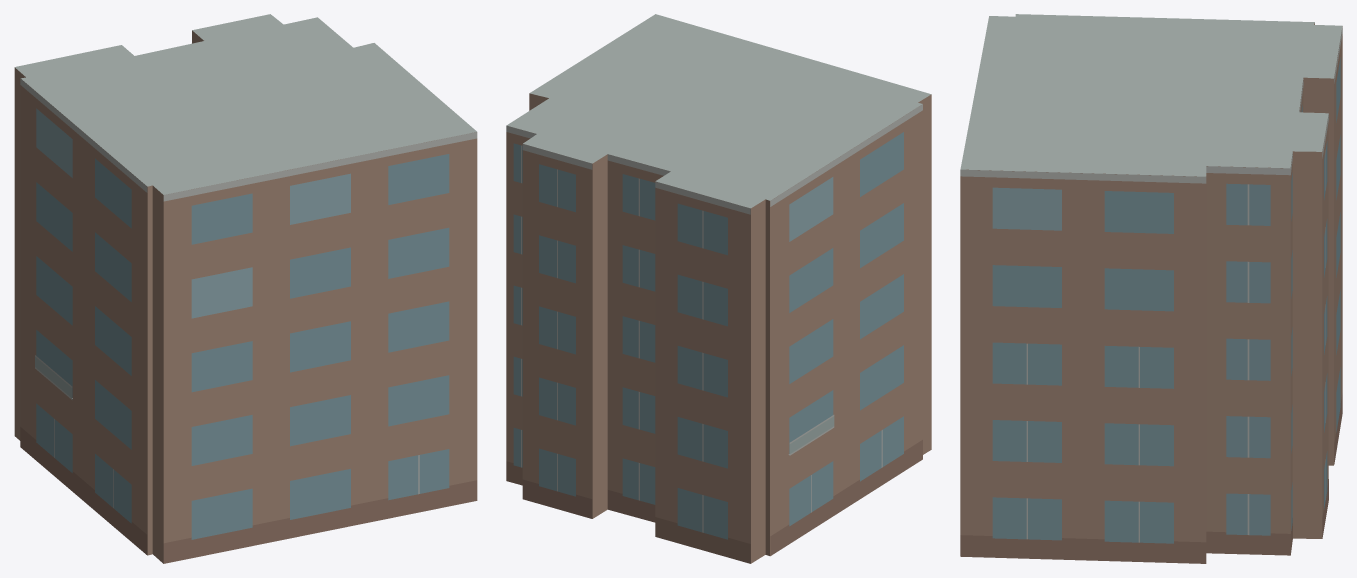
File: survey-upis-32542055.glb
3 renders of one model, left to right at view 1: azimuth 30°, elevation 25°; view 2: azimuth 150°, elevation 25°; view 3: azimuth 270°, elevation 25°, orthographic. The views are drawn at different scales.
Parts seen in each view (by area): view 1: survey-upis-32542055.tmp; view 2: survey-upis-32542055.tmp; view 3: survey-upis-32542055.tmp.
Boxes of the visible parts, x1=… form: survey-upis-32542055.tmp: x1=14, y1=14, x2=477, y2=563; survey-upis-32542055.tmp: x1=506, y1=14, x2=931, y2=563; survey-upis-32542055.tmp: x1=960, y1=14, x2=1342, y2=563.
Size of the model in its own units: 12.36 by 13.7 by 12.27.
